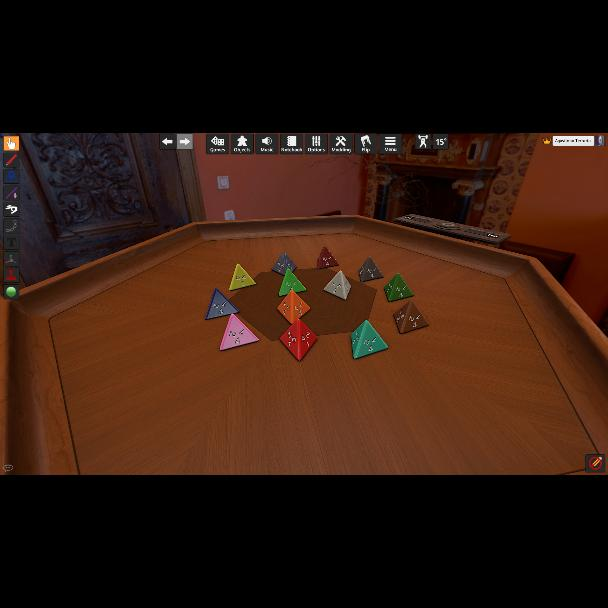d4: (280, 318, 316, 362), (219, 313, 259, 351), (352, 320, 387, 360), (278, 289, 310, 326), (205, 289, 239, 321), (398, 300, 428, 334), (278, 268, 306, 296), (229, 263, 257, 291), (323, 271, 349, 301), (384, 274, 411, 302), (358, 256, 382, 282), (272, 253, 296, 278), (316, 246, 338, 270)
